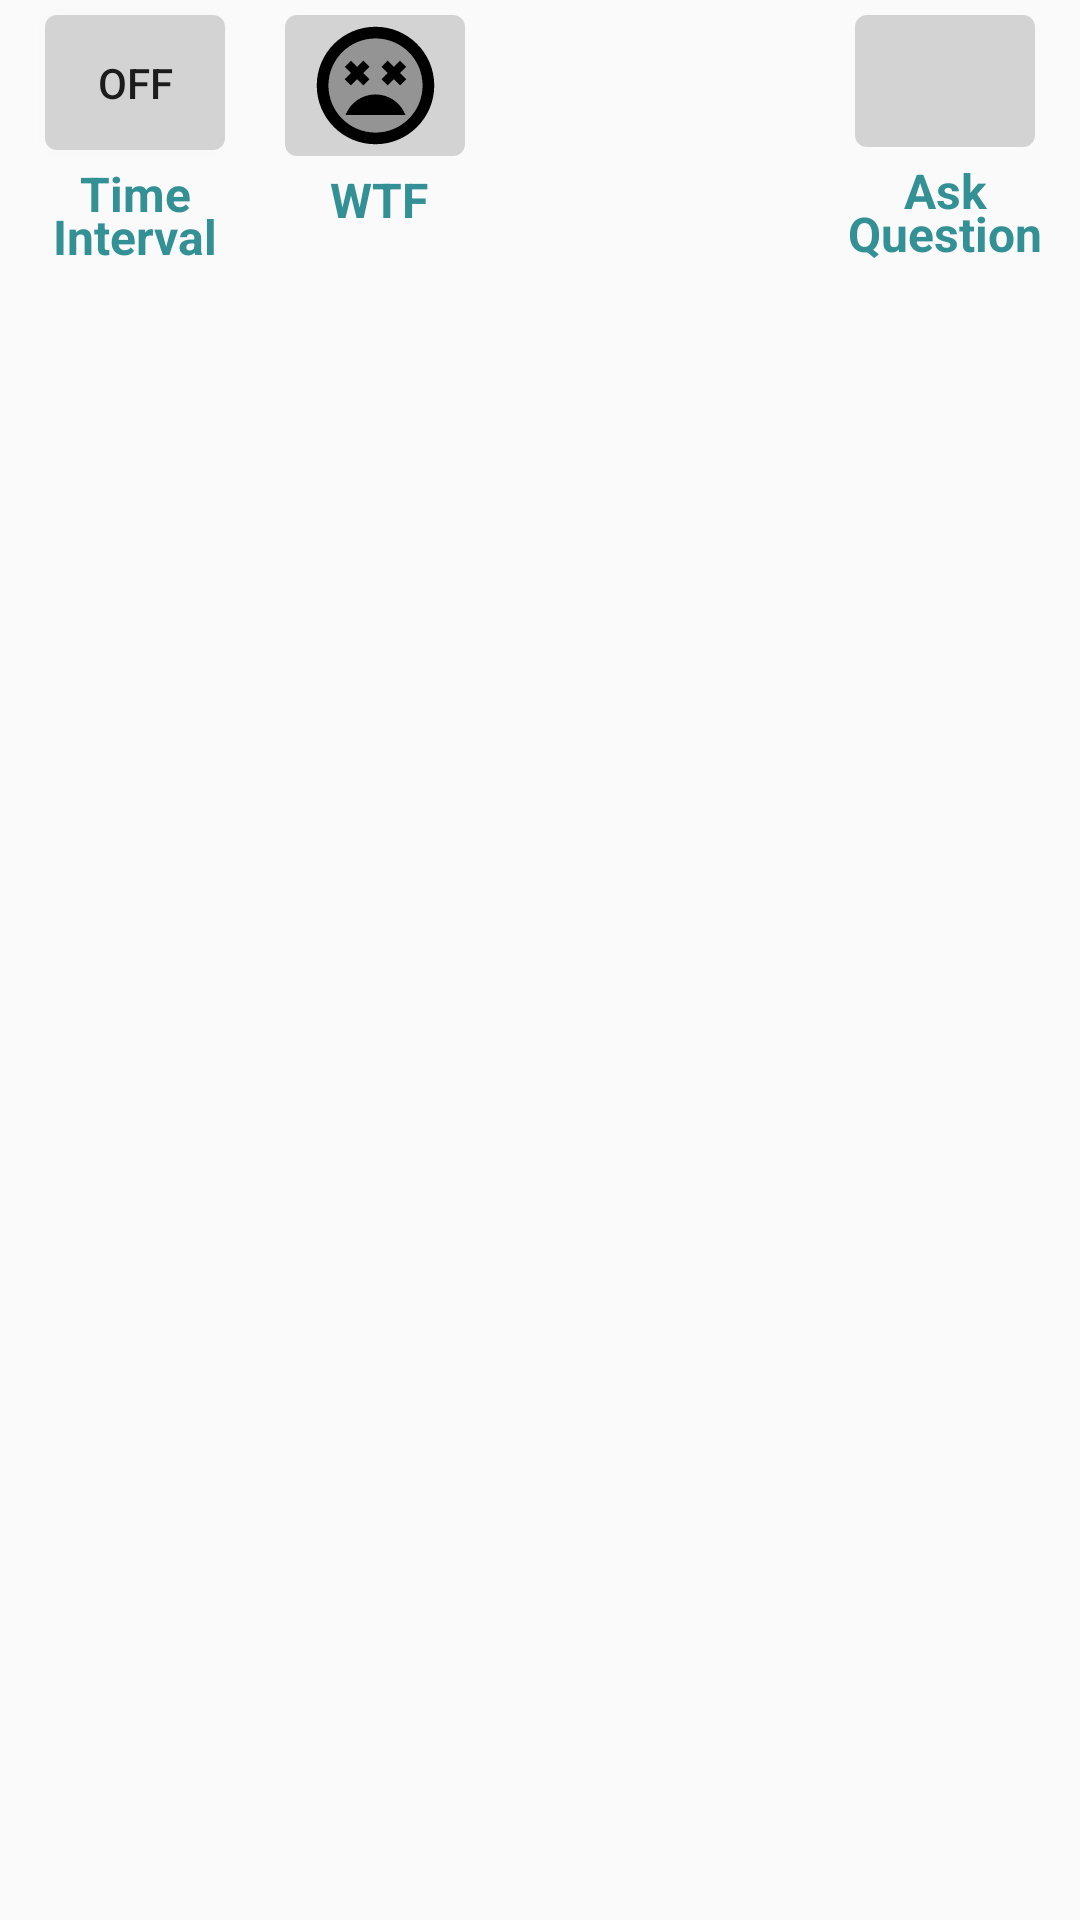

Icon click points for this 1080px×1920px phone screenshot, format (x,y):
sentiment very dissatisfied: (375,85)
